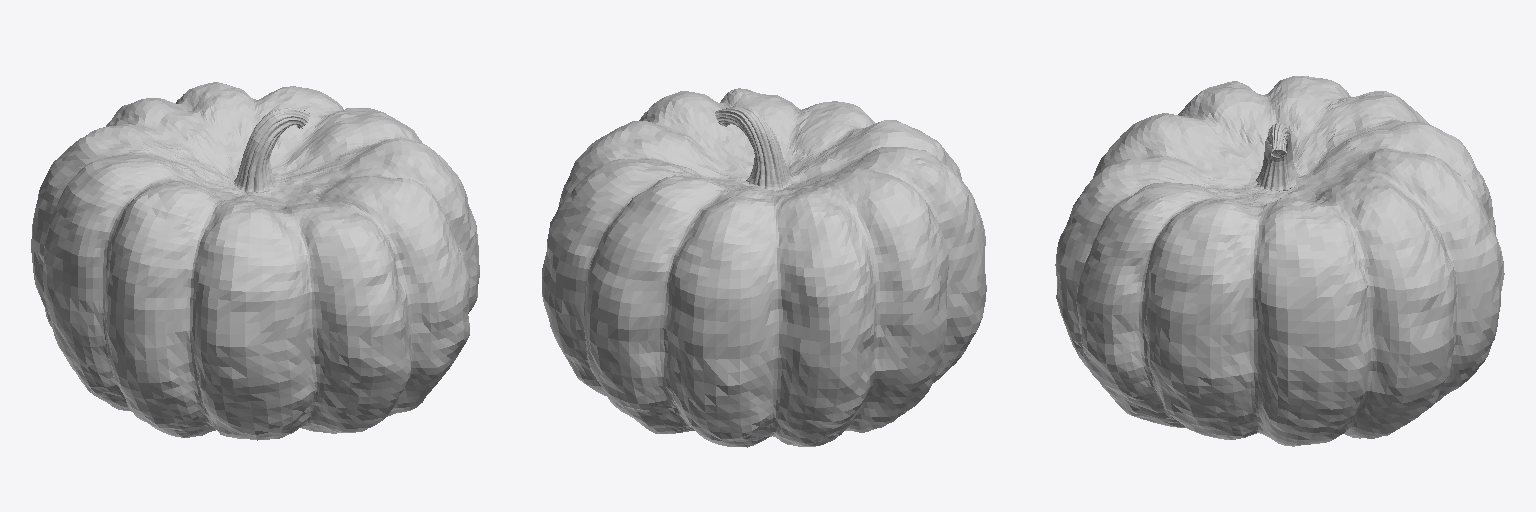
The model's file is pumpkin.obj.
3 renders of one model, left to right at view 1: azimuth 30°, elevation 25°; view 2: azimuth 150°, elevation 25°; view 3: azimuth 270°, elevation 25°, orthographic.
Visible parts, largest first — view 1: pumpkin_Sphere.008, stem.002_Sphere.007; view 2: pumpkin_Sphere.008, stem.002_Sphere.007; view 3: pumpkin_Sphere.008, stem.002_Sphere.007.
Boxes of the visible parts, <box> form: pumpkin_Sphere.008: <box>31,82,479,440</box>; stem.002_Sphere.007: <box>234,108,309,192</box>; pumpkin_Sphere.008: <box>542,88,986,447</box>; stem.002_Sphere.007: <box>715,106,791,191</box>; pumpkin_Sphere.008: <box>1055,76,1504,446</box>; stem.002_Sphere.007: <box>1256,123,1299,191</box>.
Size of the model in its own units: 1.63 by 1.17 by 1.69.